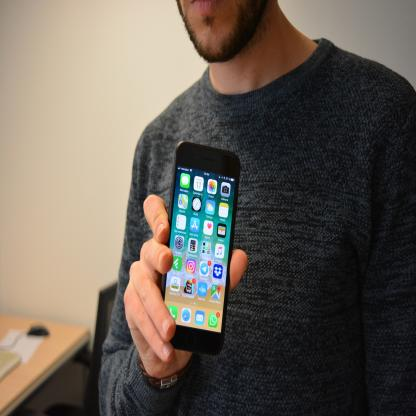smartphone: (158, 140, 240, 357)
